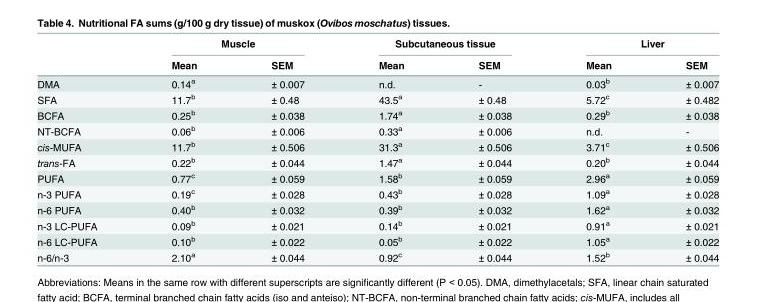table: (36, 36, 718, 262)
table column: (440, 36, 548, 262), (233, 36, 340, 262), (133, 36, 233, 262), (340, 36, 440, 262), (548, 36, 647, 262), (36, 36, 133, 262), (647, 36, 718, 262)
table column header: (36, 36, 718, 73)
table row: (36, 53, 718, 73), (36, 36, 718, 53), (36, 73, 718, 90), (36, 90, 718, 106), (36, 106, 718, 122), (36, 122, 718, 138), (36, 153, 718, 169), (36, 169, 718, 185), (36, 185, 718, 201), (36, 216, 718, 232), (36, 232, 718, 248), (36, 138, 718, 153), (36, 201, 718, 216), (36, 248, 718, 262)
table spanning cell: (340, 36, 548, 53), (133, 36, 340, 53), (548, 36, 718, 53)
